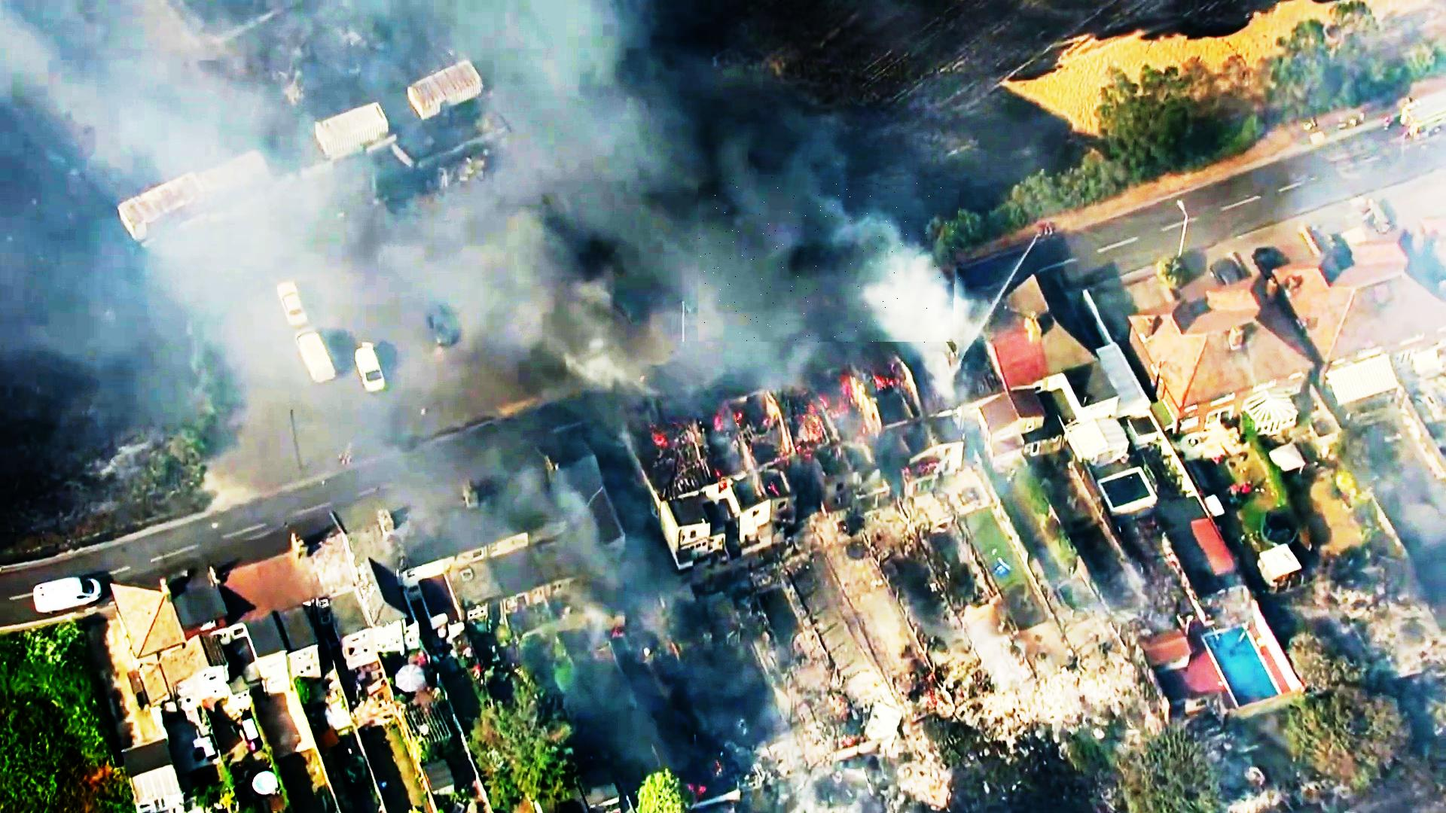smoke: (699, 177, 962, 344)
